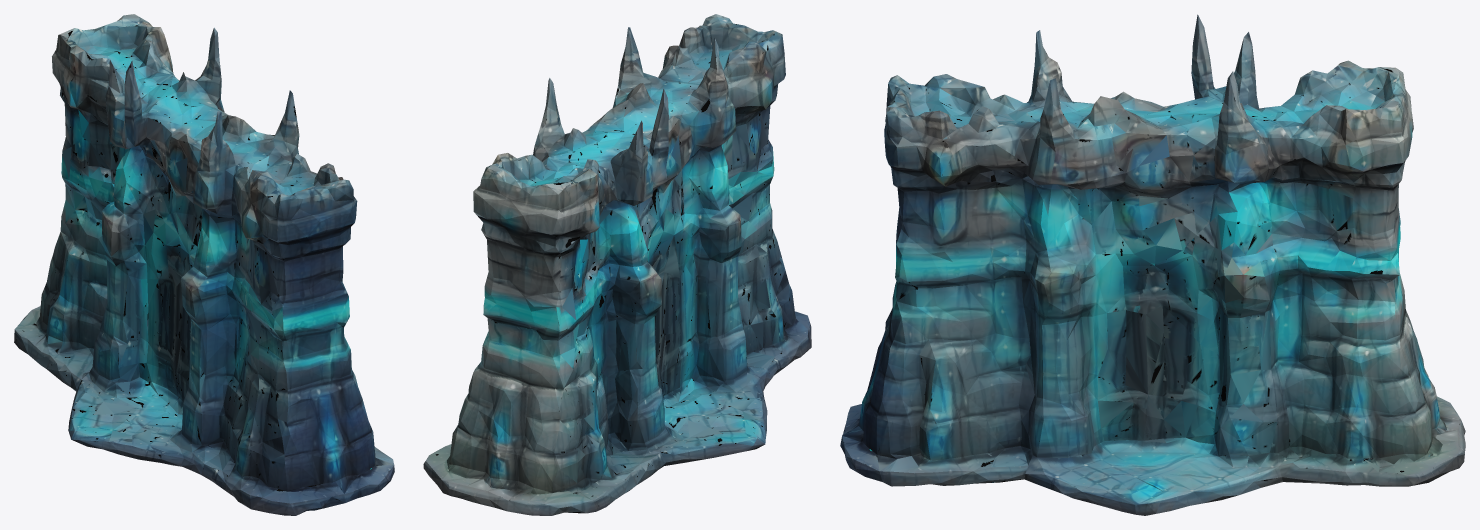
Rendered from wall_1.glb.
The picture shows the model from 3 angles, left to right: view 1: azimuth 30°, elevation 25°; view 2: azimuth 150°, elevation 25°; view 3: azimuth 270°, elevation 25°; orthographic projection. The views are drawn at different scales.
Parts seen in each view (by area): view 1: zzzz25; view 2: zzzz25; view 3: zzzz25.
Boxes of the visible parts, box(x1,y1,x2,y2) form: zzzz25: box(14, 14, 394, 515); zzzz25: box(423, 14, 811, 515); zzzz25: box(840, 14, 1465, 515).
Size of the model in its own units: 3 by 3.78 by 5.3.
1 material, 1 textured.
